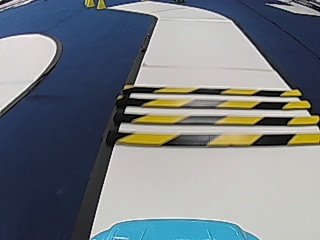bump: (112, 78, 320, 154)
